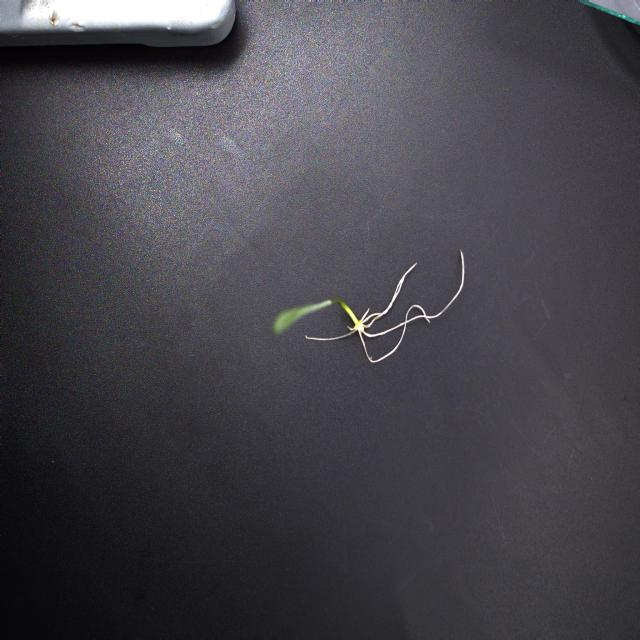leaf: (273, 300, 333, 334)
root: (329, 250, 465, 363)
stem: (331, 298, 359, 326)
